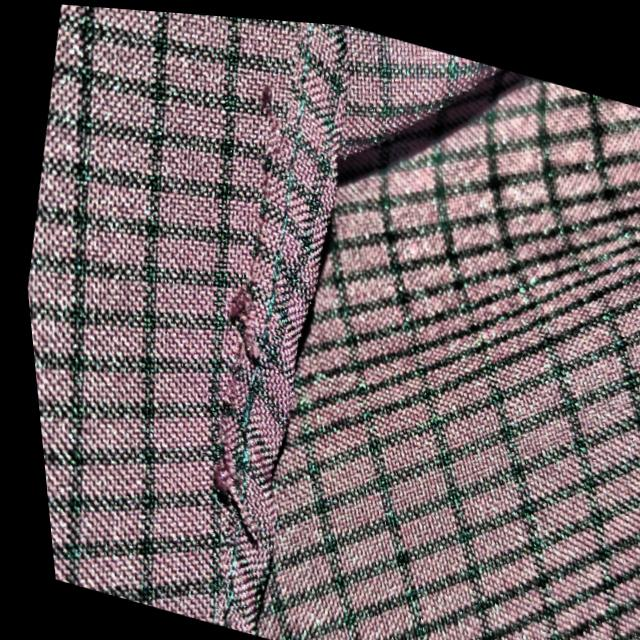Stitch: (143, 425, 290, 568), (171, 244, 297, 391)
